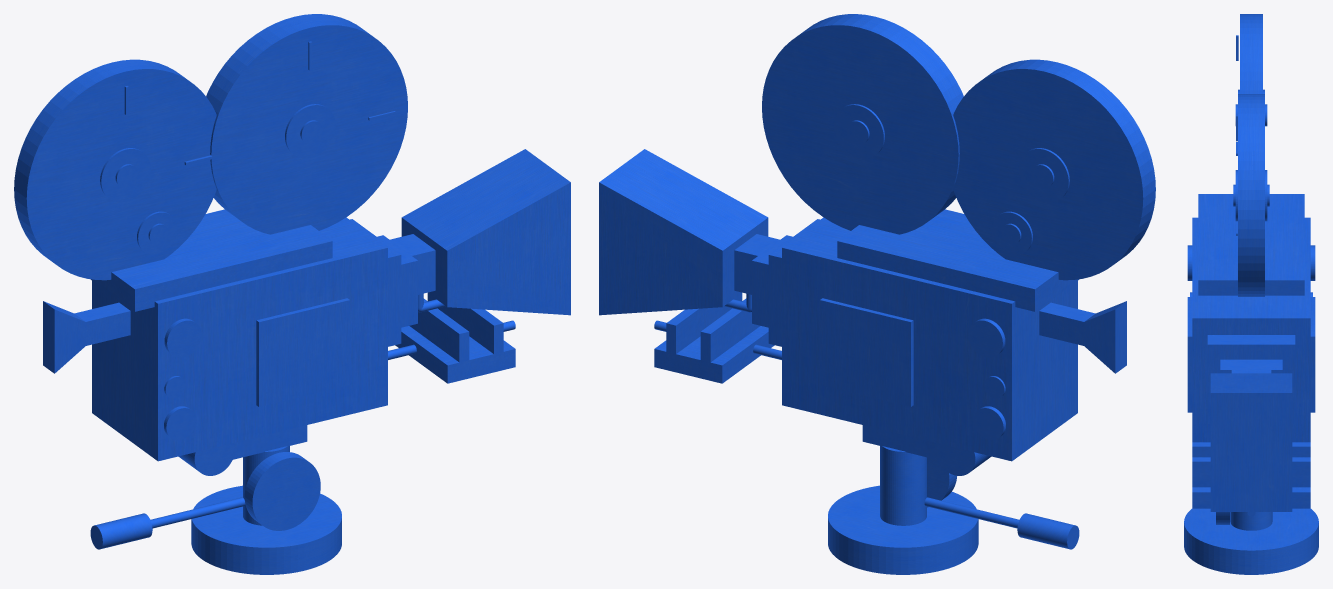
File: cam-transformed.glb
3 renders of one model, left to right at view 1: azimuth 30°, elevation 25°; view 2: azimuth 150°, elevation 25°; view 3: azimuth 270°, elevation 25°, orthographic. The views are drawn at different scales.
Parts seen in each view (by area): view 1: body, reelF, reelR, Cube.006, reelsMount, Cylinder.003, bodyPanel, Cylinder.004, Cube.009, Cube.008, Cube.010, reelF.001 (+14 smaller); view 2: body, reelF, reelR, Cube.006, reelsMount, Cylinder.003, bodyPanel, Cylinder.008, Cube.009, Cube.008, Cube.010, reelF.001 (+14 smaller); view 3: Cube.006, body, reelsMount, Cylinder.003, reelF, Cube.001, reelR, bodyPanel, Cube.011, Cube.009, Cube.002, Cylinder.008 (+3 smaller).
Part boxes in pixels (x1,y1,x2,y2): body: [92, 217, 387, 461]; reelF: [206, 14, 407, 234]; reelR: [14, 59, 216, 280]; Cube.006: [401, 149, 570, 315]; reelsMount: [91, 209, 332, 311]; Cylinder.003: [191, 485, 341, 574]; bodyPanel: [256, 298, 349, 406]; Cylinder.004: [244, 452, 320, 530]; Cube.009: [395, 326, 515, 383]; Cube.008: [43, 301, 85, 373]; Cube.010: [409, 298, 469, 362]; reelF.001: [285, 104, 335, 158]; body: [782, 217, 1077, 461]; reelF: [762, 14, 963, 234]; reelR: [953, 59, 1155, 280]; Cube.006: [599, 149, 768, 315]; reelsMount: [837, 209, 1078, 311]; Cylinder.003: [828, 485, 978, 574]; bodyPanel: [820, 298, 913, 406]; Cylinder.008: [880, 446, 926, 525]; Cube.009: [654, 326, 774, 383]; Cube.008: [1084, 301, 1126, 373]; Cube.010: [700, 298, 760, 362]; reelF.001: [834, 104, 884, 158]; Cube.006: [1210, 373, 1292, 511]; body: [1192, 217, 1310, 442]; reelsMount: [1198, 194, 1304, 295]; Cylinder.003: [1184, 508, 1318, 574]; reelF: [1238, 94, 1264, 296]; Cube.001: [1207, 335, 1295, 423]; reelR: [1240, 14, 1262, 93]; bodyPanel: [1187, 297, 1315, 412]; Cube.011: [1192, 457, 1310, 487]; Cube.009: [1192, 487, 1310, 508]; Cube.002: [1220, 359, 1282, 373]; Cylinder.008: [1230, 512, 1272, 530].
Bounding box in the file's own units: 3.04 × 2.82 × 0.7528.
Materials: 1 (1 with a texture image).
